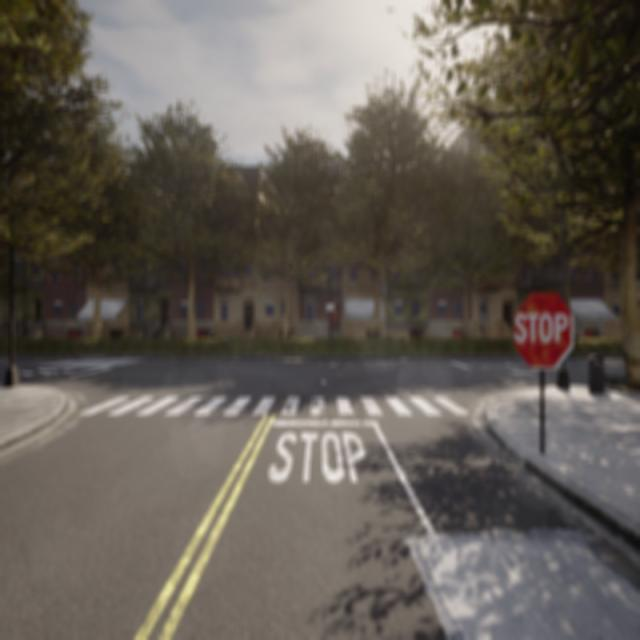stop sign: (509, 286, 577, 372), (512, 308, 570, 346)
